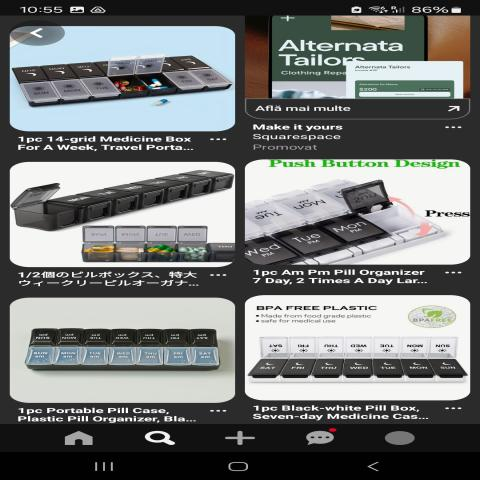Pill-box: (245, 177, 457, 265), (13, 314, 234, 389), (15, 49, 228, 120), (242, 326, 473, 390), (15, 169, 238, 229)
